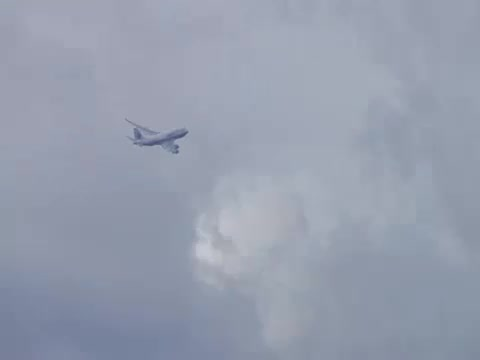aeroplane: (126, 118, 190, 155)
